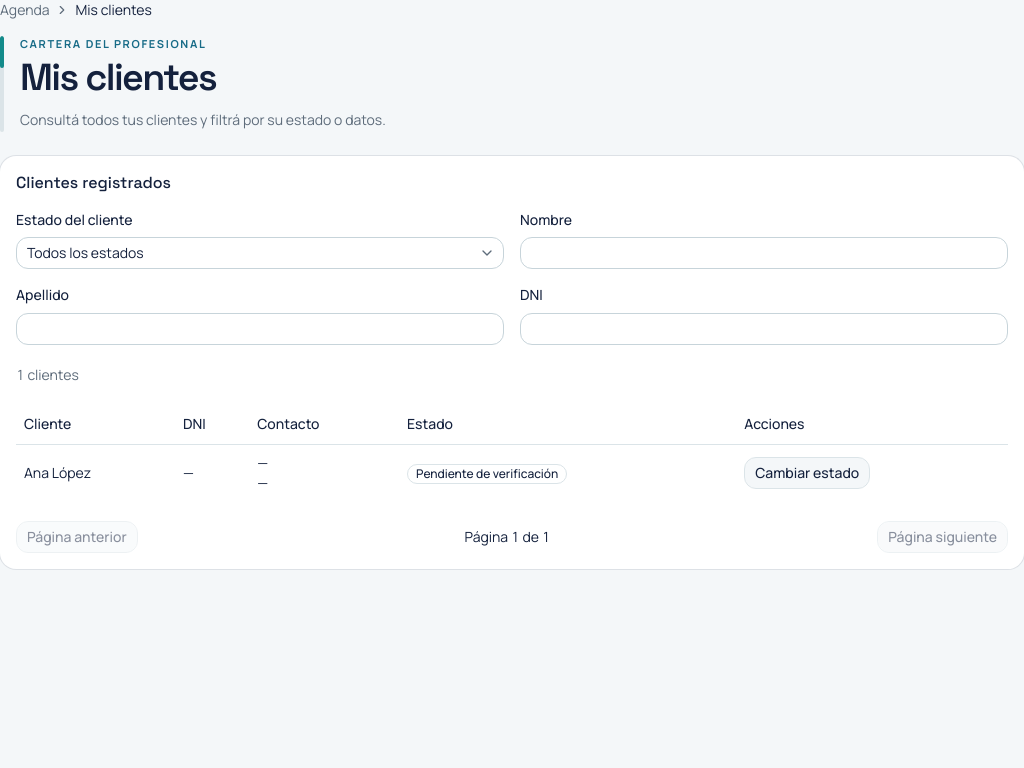
Test case: cambia el estado de un cliente pendiente a habilitado
What coordinates should you click on to do the following:
click the button with aria-label "Cambiar estado de Ana López"
I would click on:
 (807, 473)
Its box is 744,457 -> 870,489.
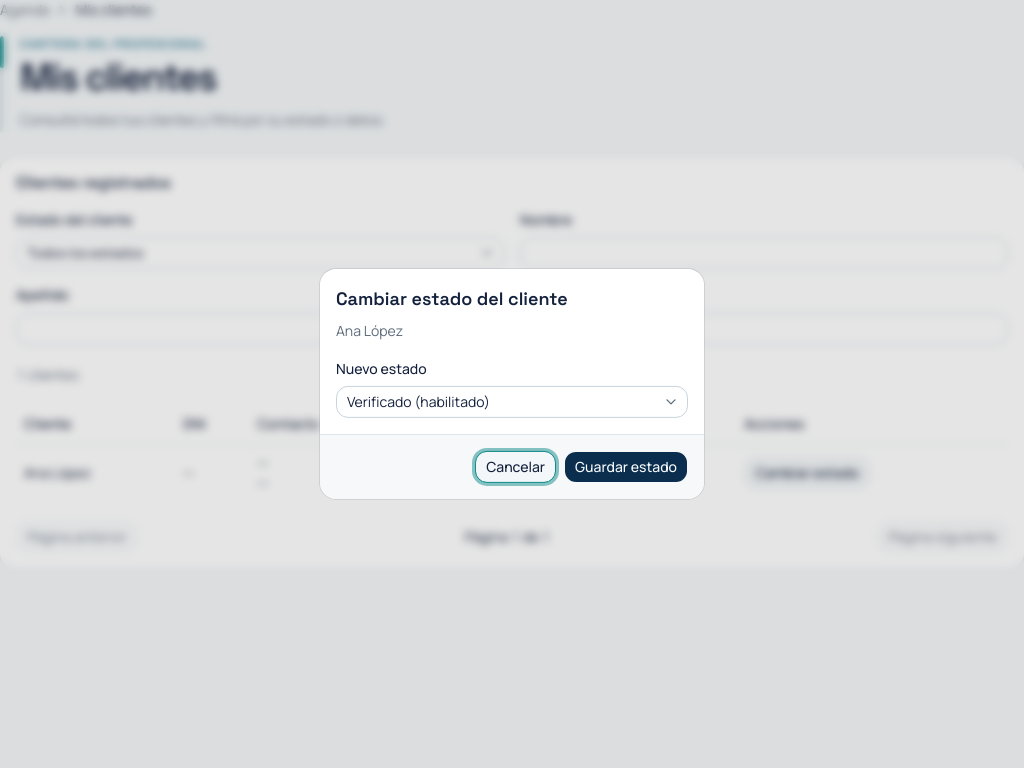
What coordinates should you click on to do the following:
click the button "Guardar estado"
I would click on:
 (626, 467)
Its box is 564,451 -> 688,483.
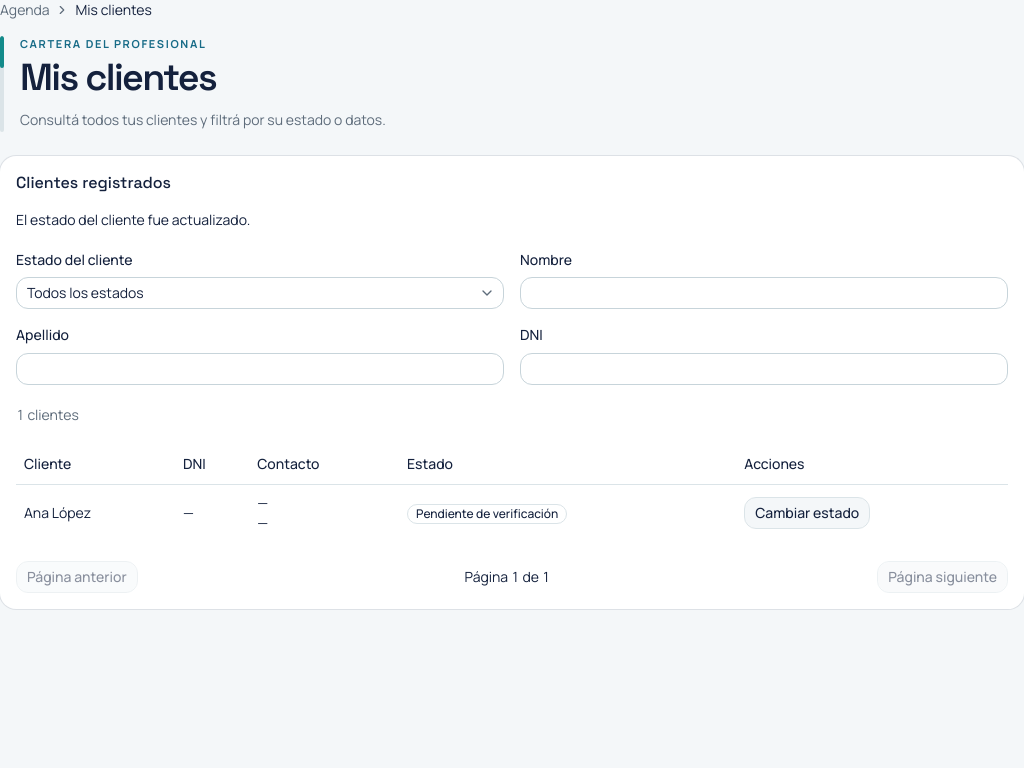
Result: the text "El estado del cliente fue actualizado." is shown at 16,210 -> 250,229
